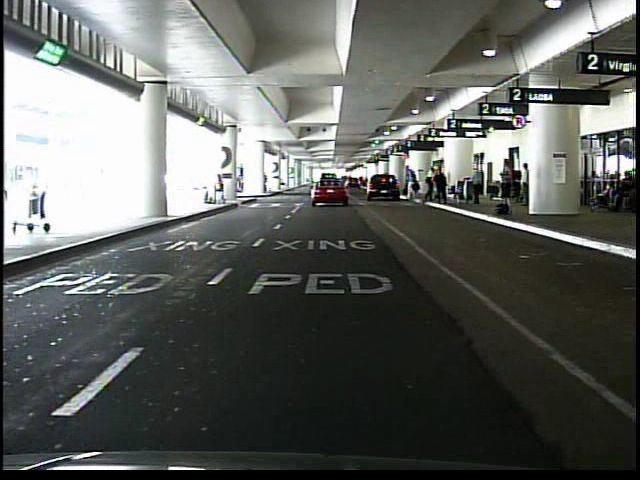person: (499, 160, 517, 218), (613, 169, 636, 211), (518, 163, 531, 208), (437, 170, 451, 206), (424, 168, 438, 204), (406, 165, 420, 200), (473, 167, 485, 206), (214, 173, 228, 206)
